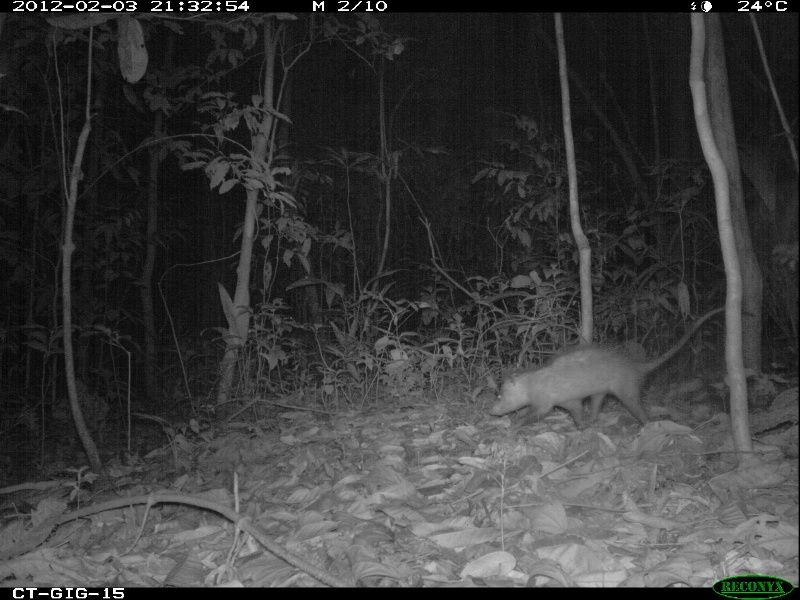opossum: (487, 300, 732, 433)
